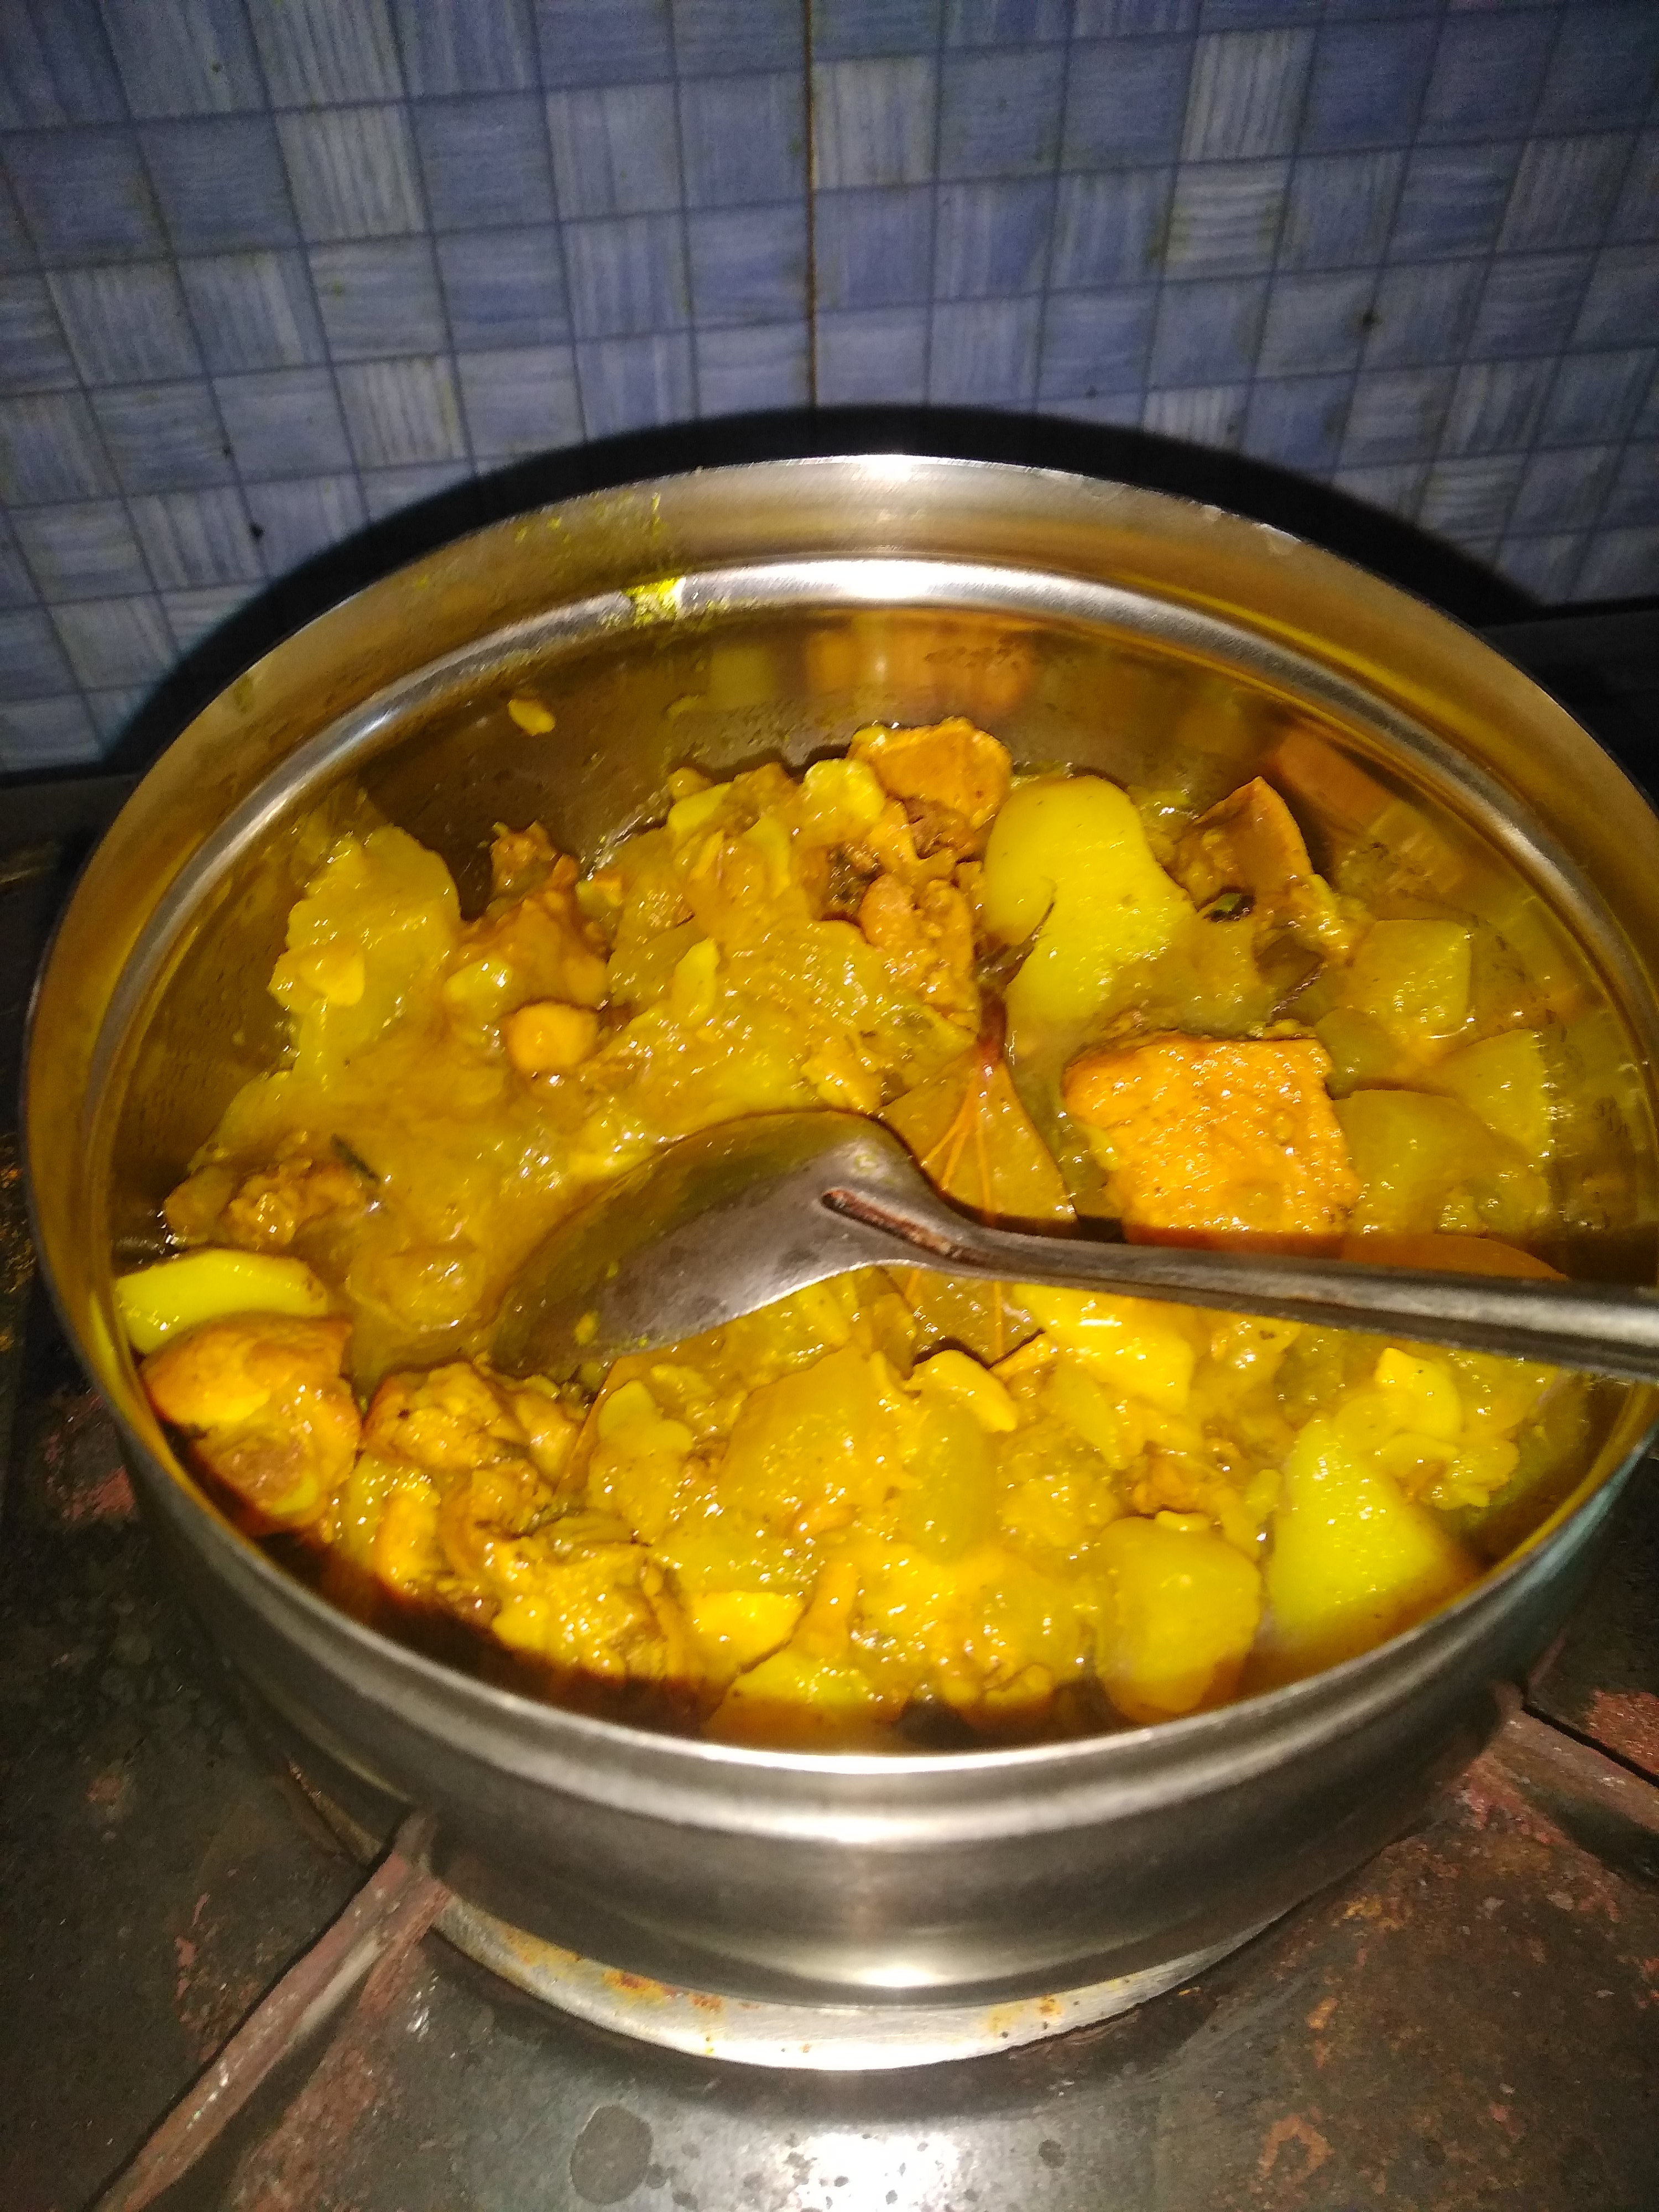food: (110, 705, 1586, 1757)
